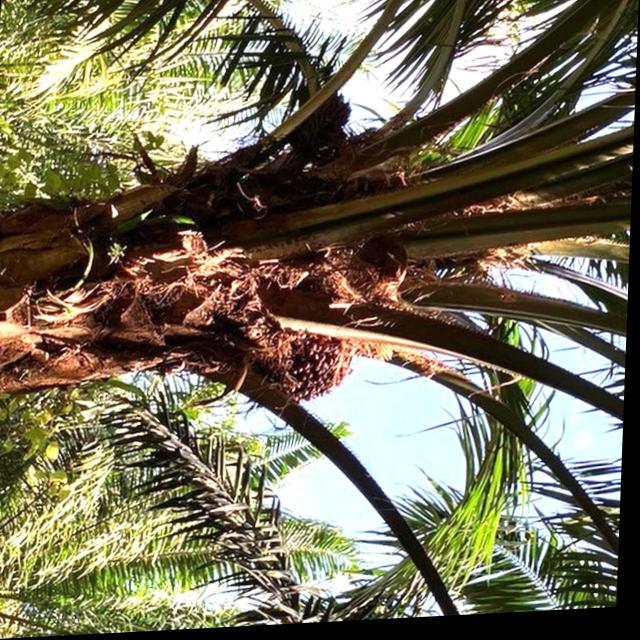ripe: (253, 323, 367, 417)
